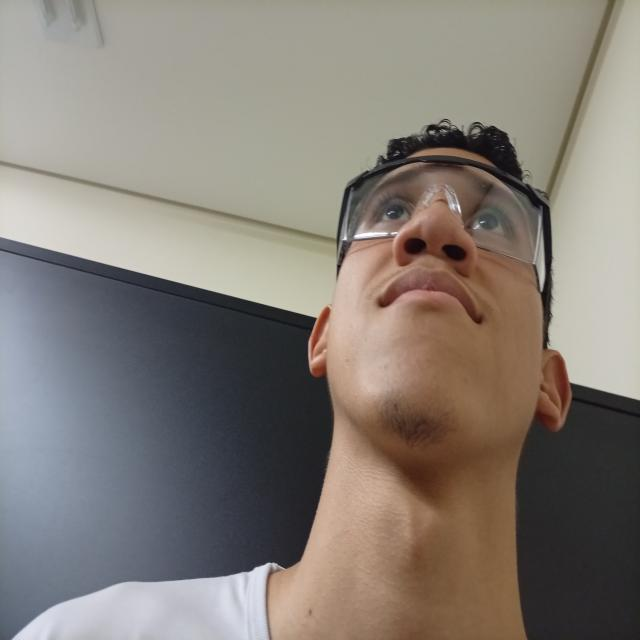oculos-epi: (329, 149, 564, 332)
